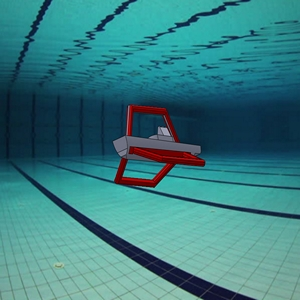submarine: (93, 99, 218, 206)
